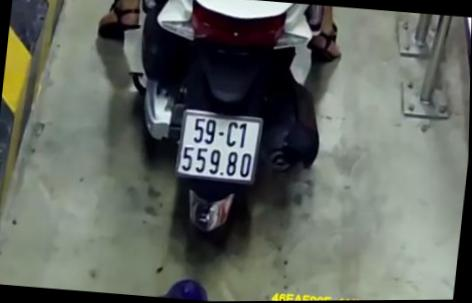LP: (170, 103, 269, 188)
